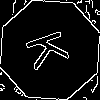K: (25, 25, 79, 72)
